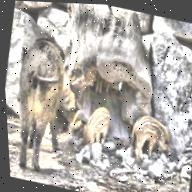boar: (1, 15, 84, 171), (118, 102, 184, 175), (76, 97, 111, 154)
